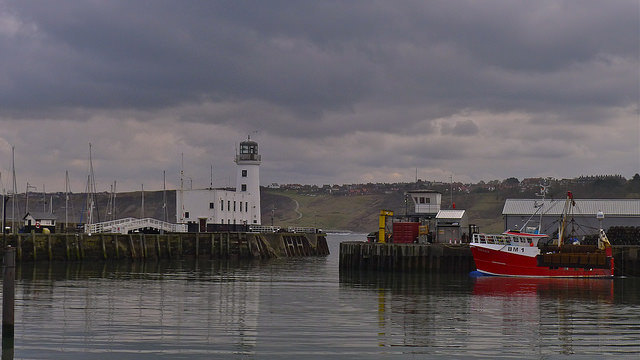fishing_boat: (470, 198, 628, 282)
